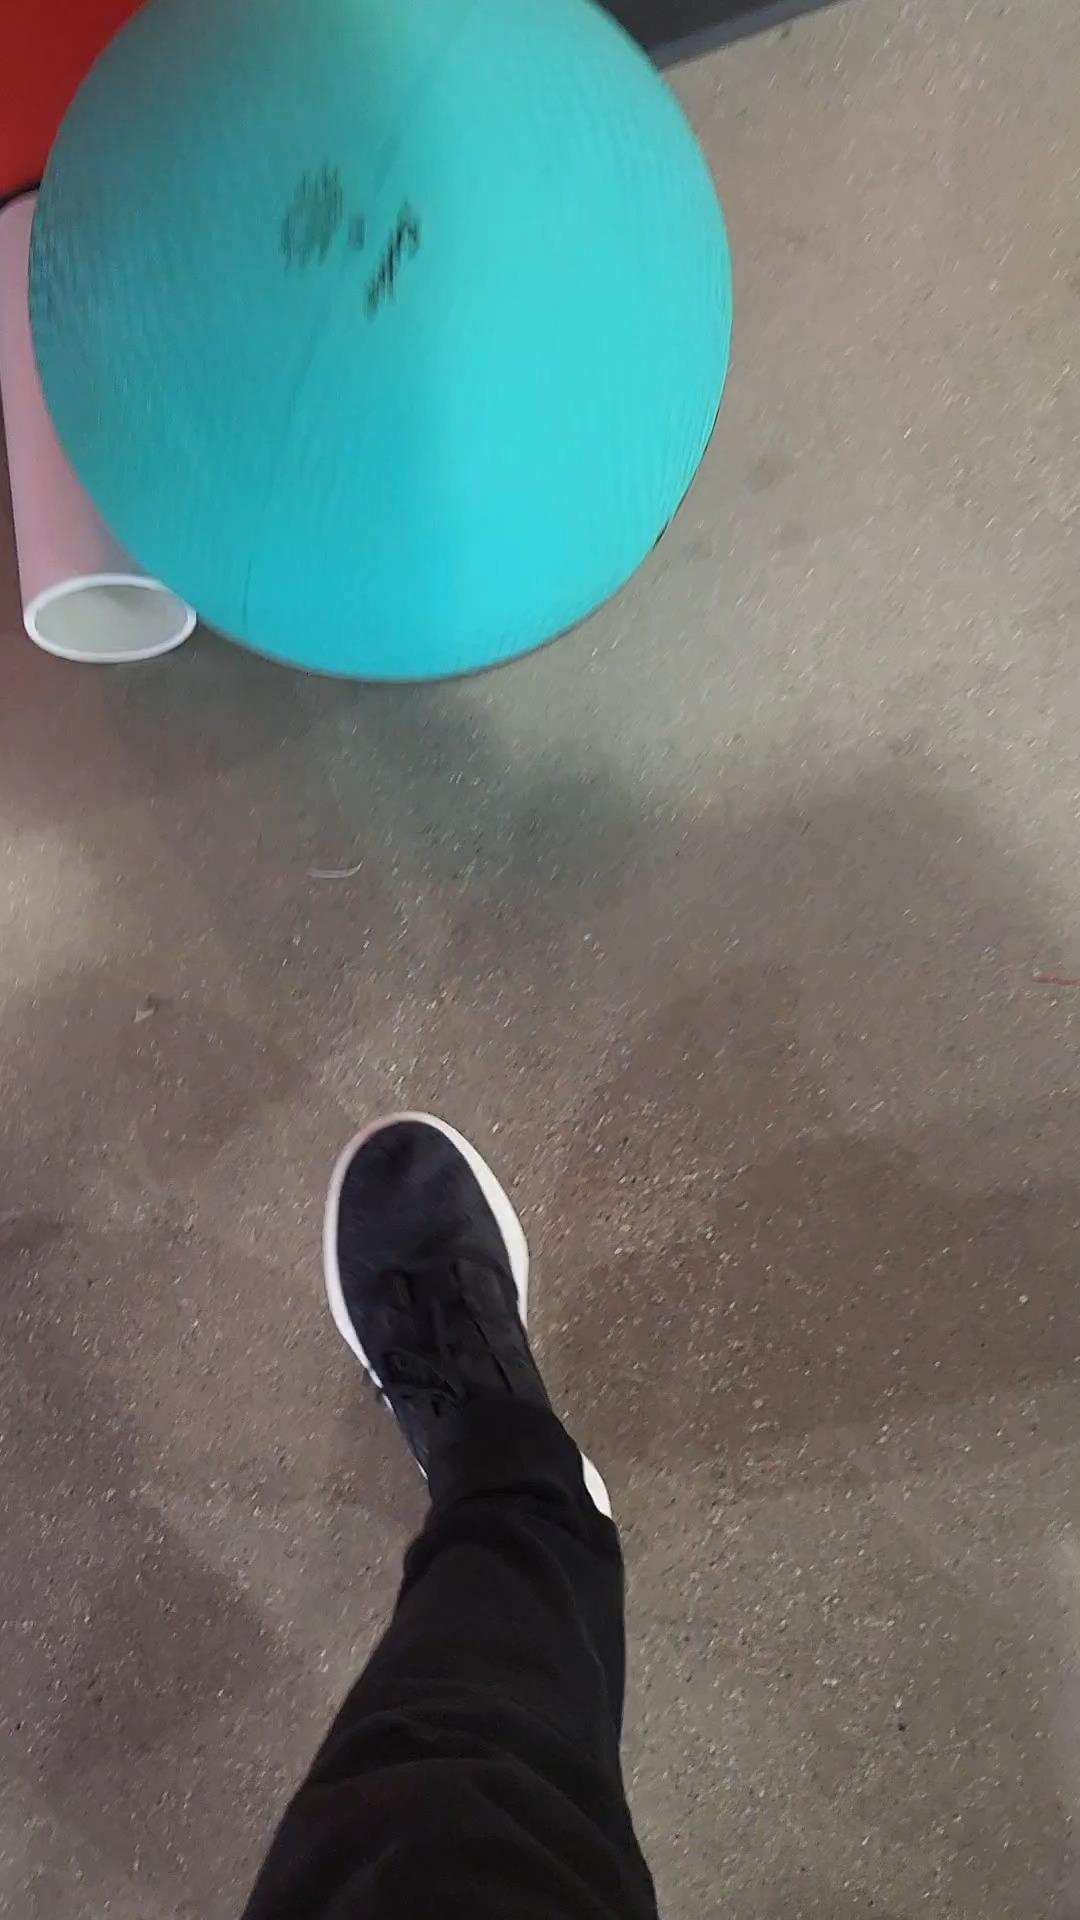algae: (36, 0, 731, 688)
coral: (0, 191, 195, 712)
